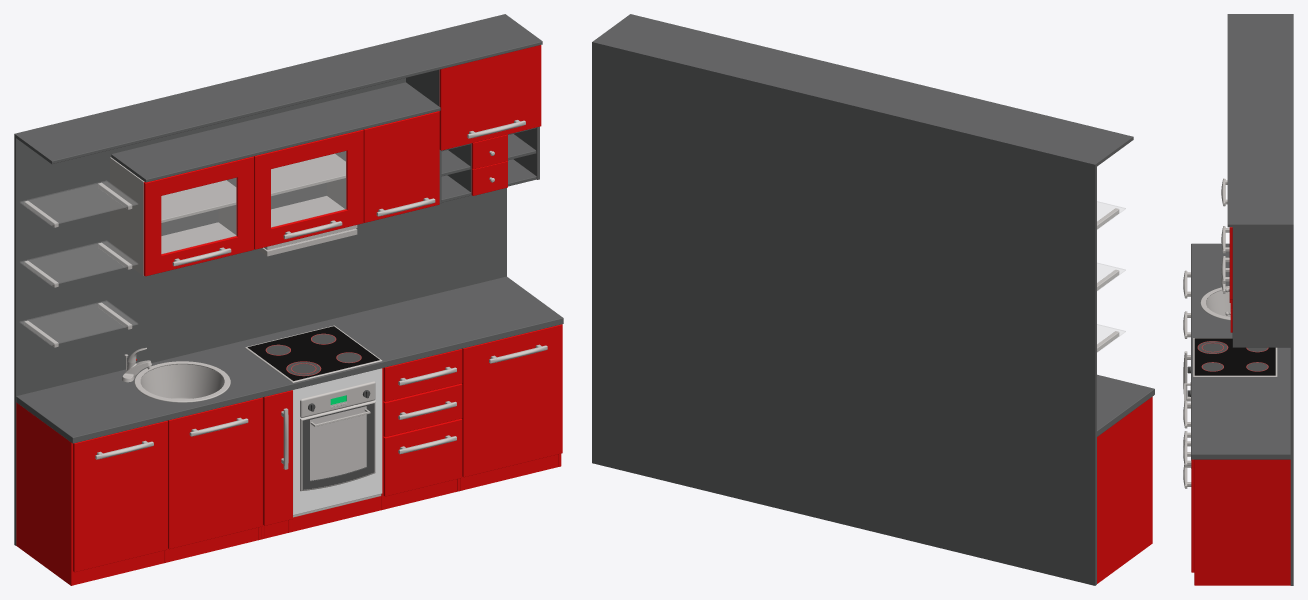
The model's file is obj_kitchen_quadro_56f8e5.glb.
3 renders of one model, left to right at view 1: azimuth 30°, elevation 25°; view 2: azimuth 150°, elevation 25°; view 3: azimuth 270°, elevation 25°, orthographic. The views are drawn at different scales.
Visible parts, largest first — view 1: obj_kitchen_quadro_56f8e5; view 2: obj_kitchen_quadro_56f8e5; view 3: obj_kitchen_quadro_56f8e5.
Boxes of the visible parts, box(x1,y1,x2,y2) form: obj_kitchen_quadro_56f8e5: box(14, 14, 563, 585); obj_kitchen_quadro_56f8e5: box(592, 14, 1154, 585); obj_kitchen_quadro_56f8e5: box(1183, 14, 1293, 585).
Bounding box in the file's own units: 0.45 × 0.36 × 0.0999.
